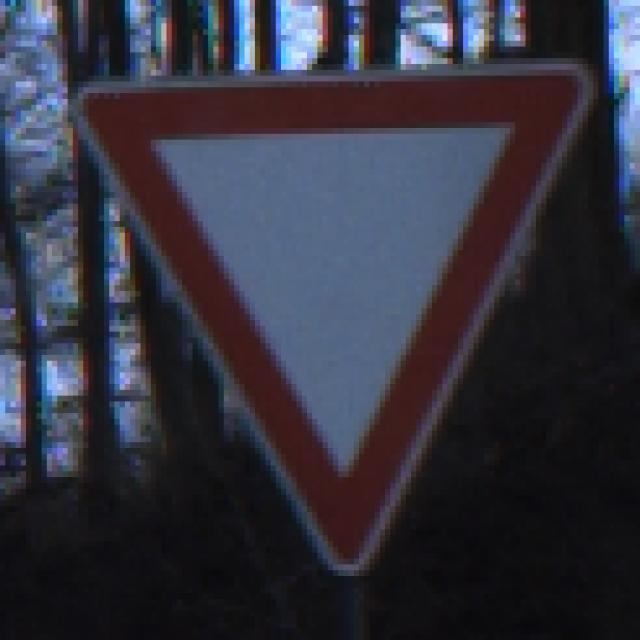give way: (53, 66, 596, 561)
